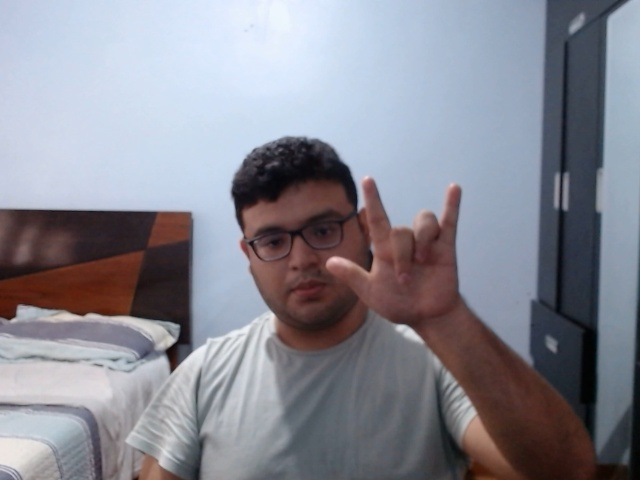I love you: (323, 174, 477, 333)
